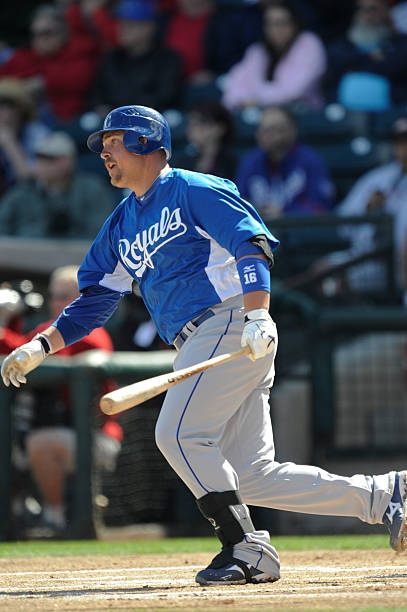bita: (106, 344, 270, 412)
